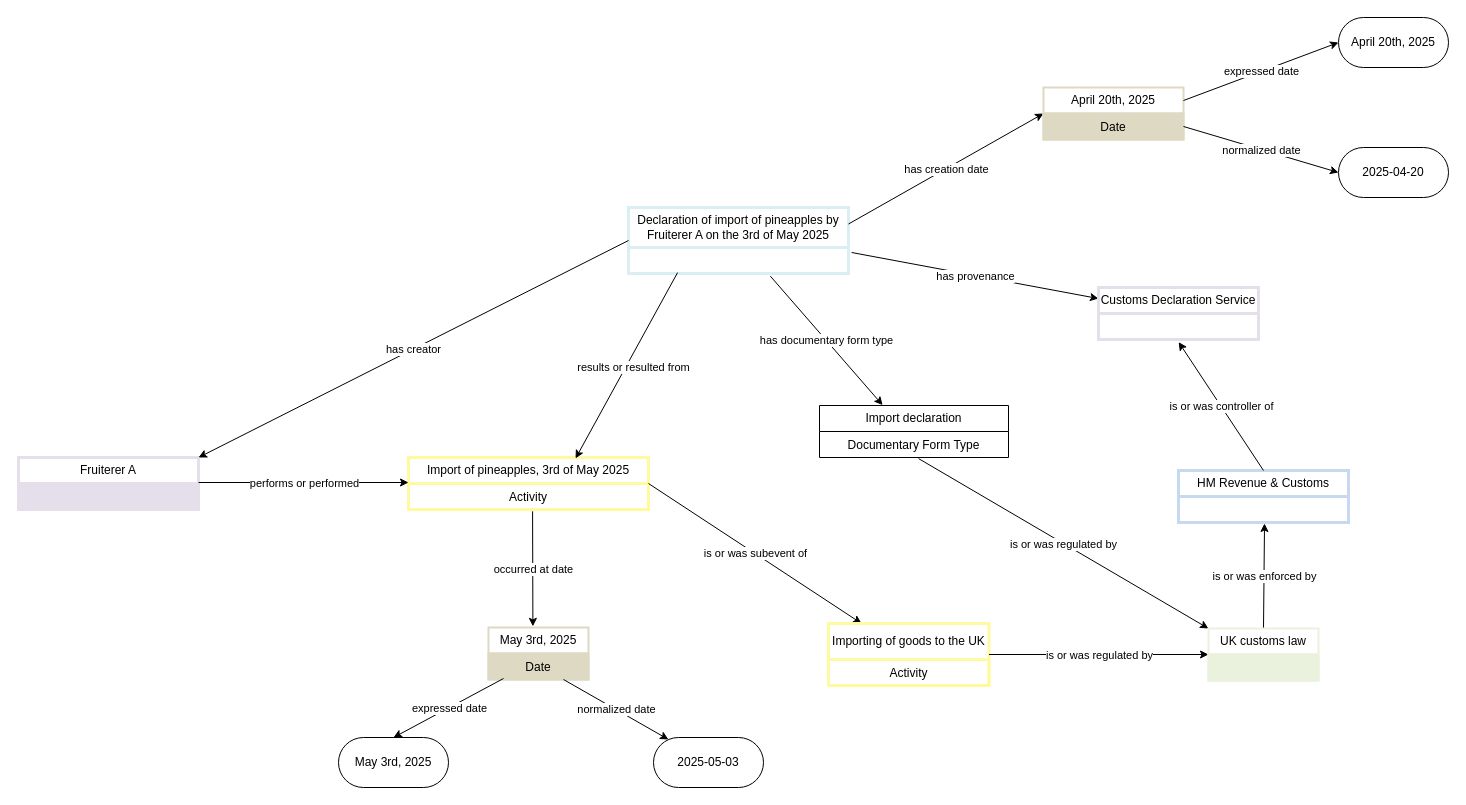
Some shapes in this 1466 by 805 pixel diagram are drawn without their labels. Each missing label, with the centre of its shape:
Agent: (108,496)
Corporate Body: (1263,509)
Mechanism: (1178,326)
Record: (738,260)
Rule: (1263,667)
